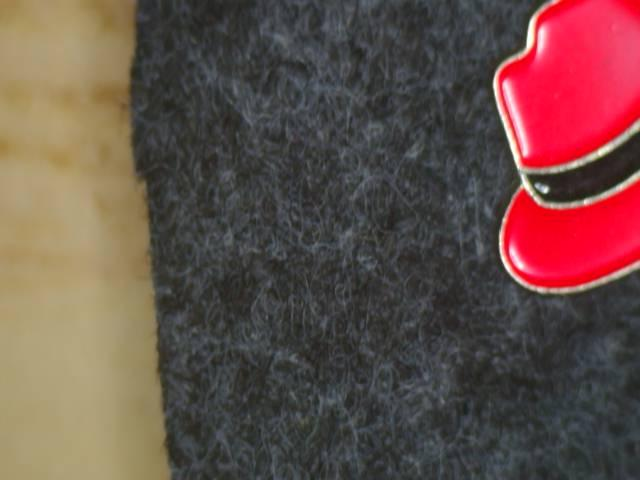Red-Hat: (468, 0, 640, 316)
